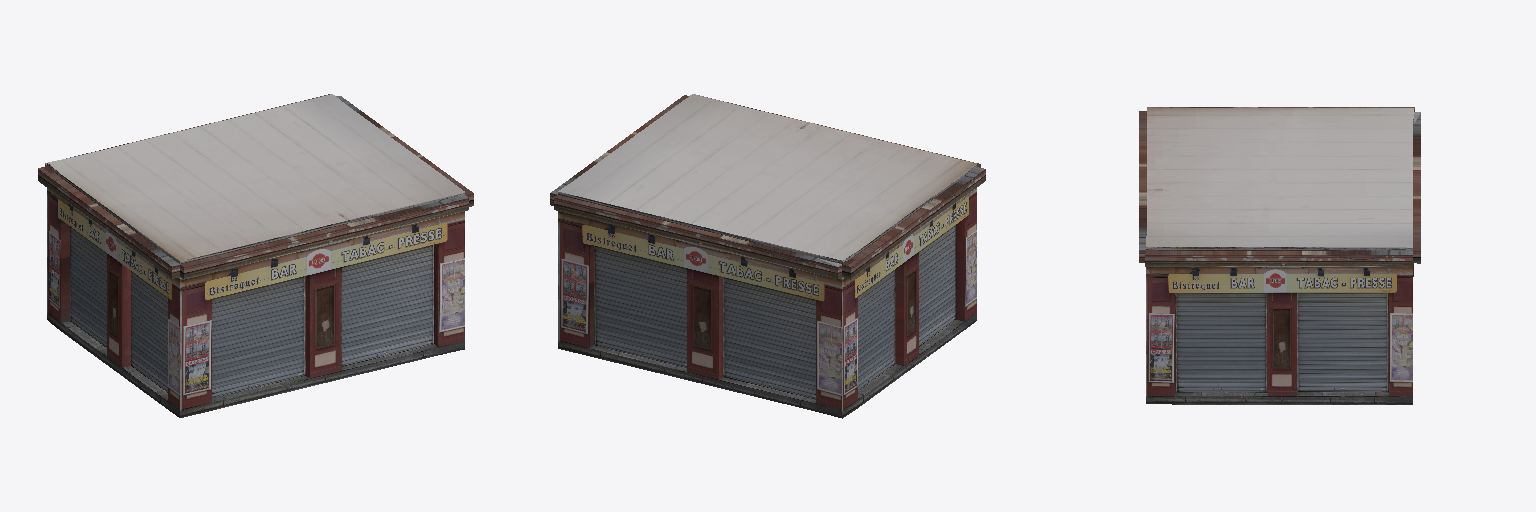
3 renders of one model, left to right at view 1: azimuth 30°, elevation 25°; view 2: azimuth 150°, elevation 25°; view 3: azimuth 270°, elevation 25°, orthographic.
Parts seen in each view (by area): view 1: Box001; view 2: Box001; view 3: Box001.
Part boxes in pixels (x1,y1,x2,y2): Box001: (38,94,473,417); Box001: (550,94,985,418); Box001: (1139,107,1420,404).
Bounding box in the file's own units: 146 × 73.18 × 119.
Materials: 1 (1 with a texture image).